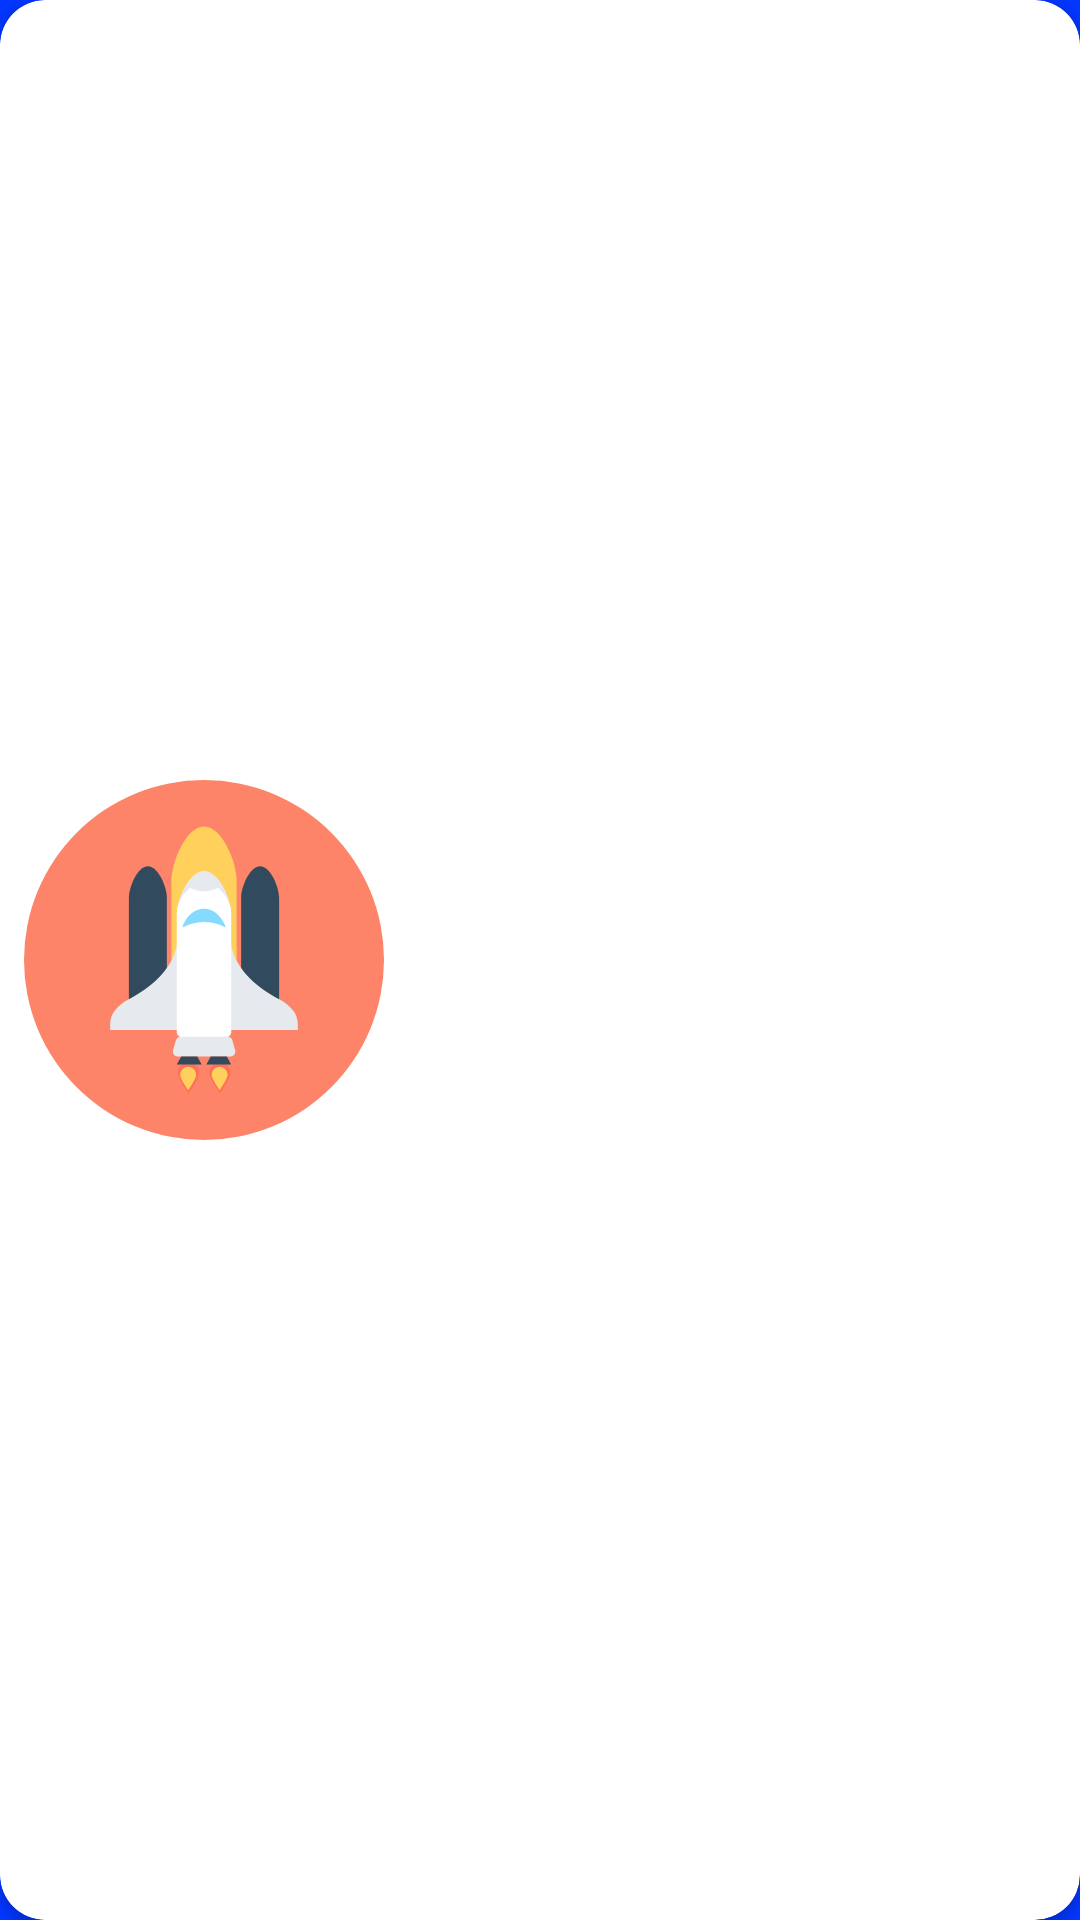

Icons on this 1080px x 1920px Android screen, each with its box as detection(x1, y1, x2, y2):
starship: detection(24, 780, 384, 1140)
